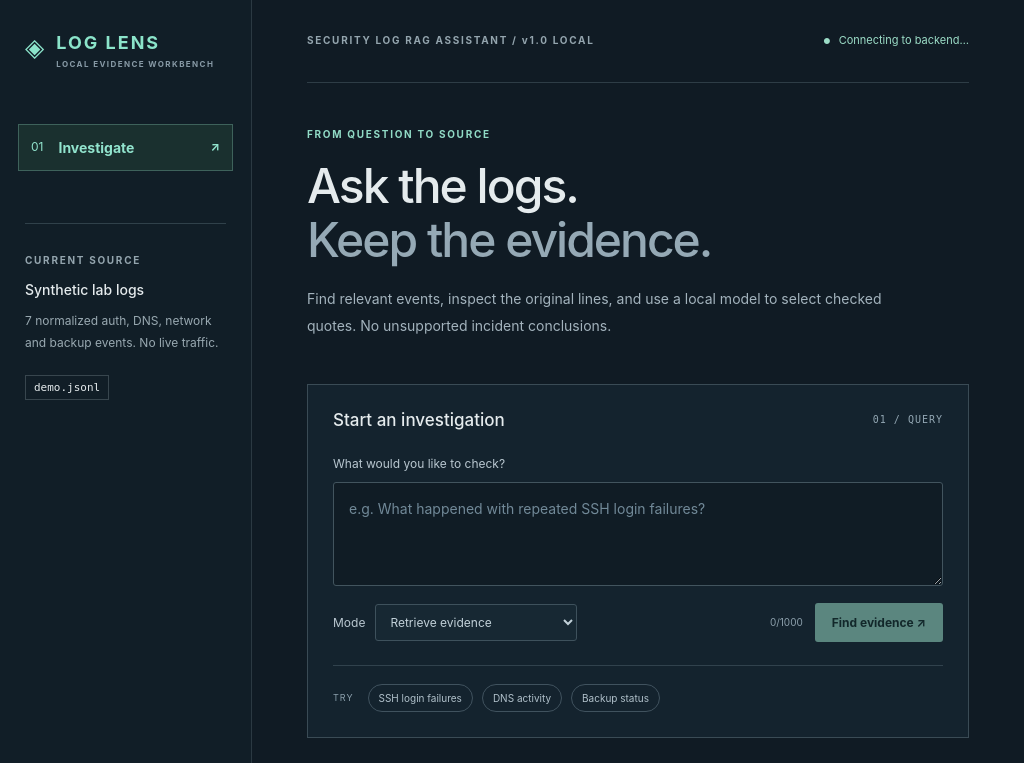
Test: evidence workbench › shows errors without stale results
This screenshot has width=1024, height=763.
Type "SSH failures" into the text box labelled "What would you like to check?" at (638, 534), box x1=333 y1=482 x2=943 y2=586
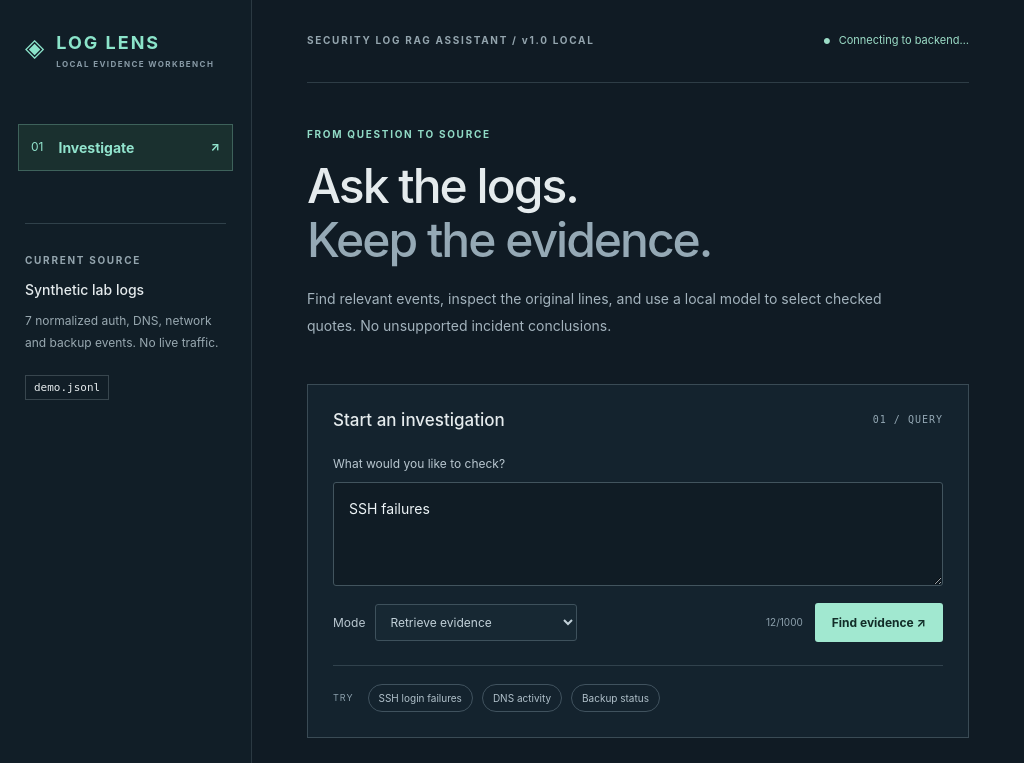
Click the button "Find evidence ↗" at (879, 622), box x1=815 y1=603 x2=943 y2=642
(page scrolled)
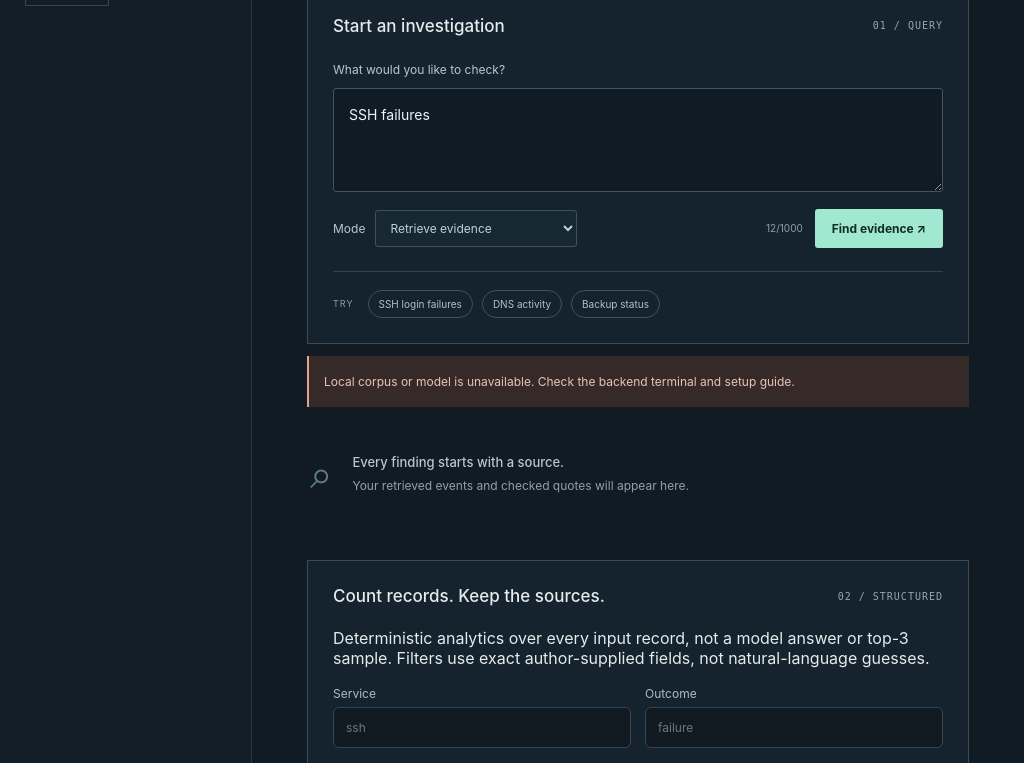
Result: the message shows "Local corpus or model is unavailable" at x1=324 y1=374 x2=795 y2=389
